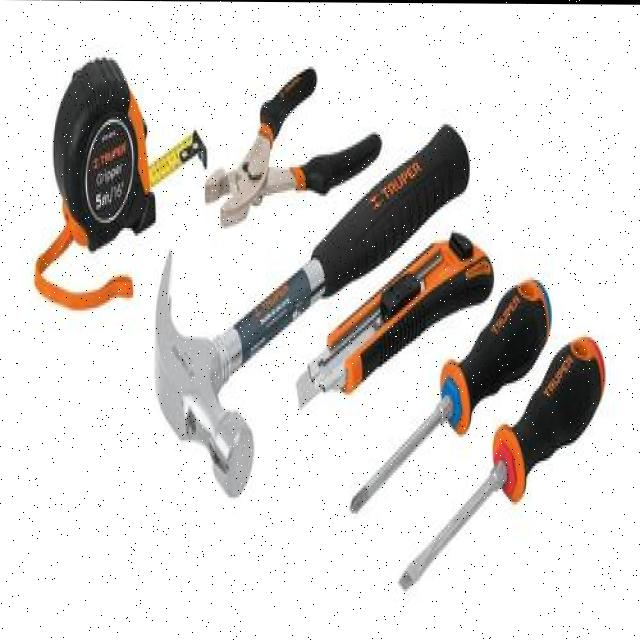Screwdriver: (400, 336, 604, 586), (351, 280, 549, 511)
